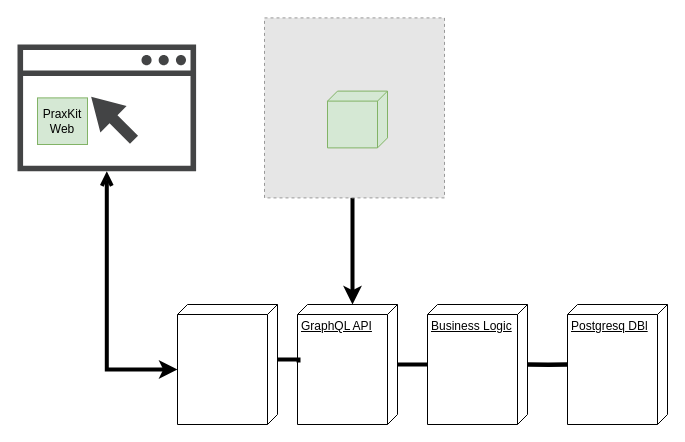
Some shapes in this 685 by 442 pixel diagram are drawn without their labels. Grey dashed boxes stand in for pictures. The centre of each missing label's shape, as x and y in pixels:
LiveView: (227,364)
PaxKit App: (357,119)
